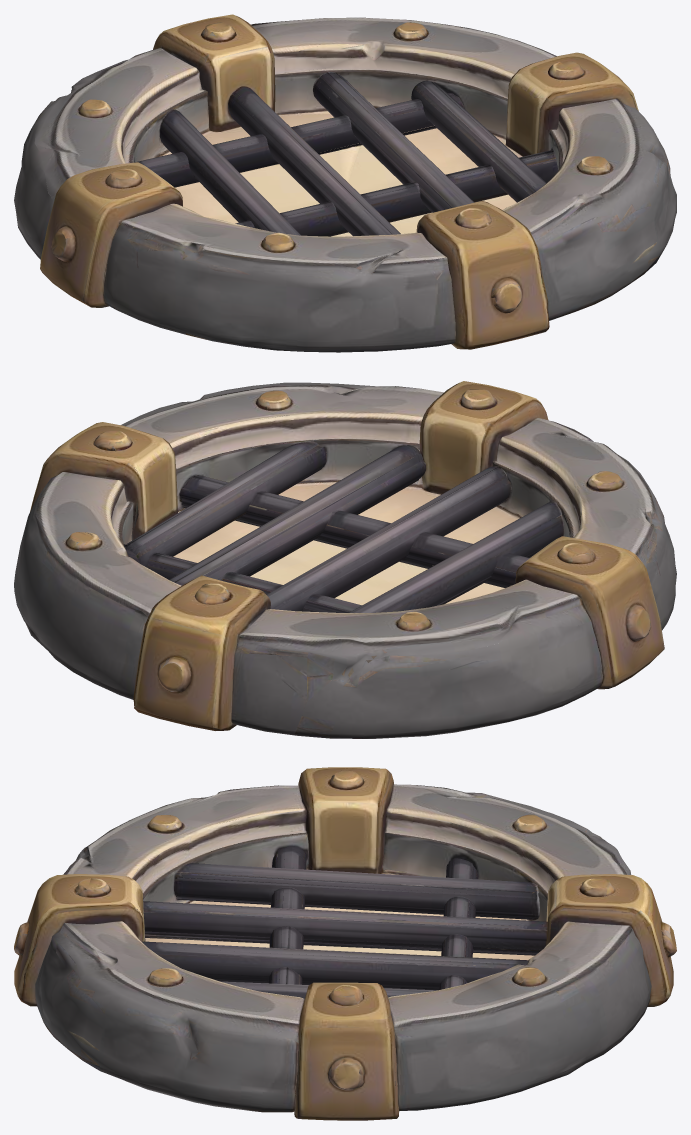
File: updraft_vent.glb
3 renders of one model, top to bottom at view 1: azimuth 30°, elevation 25°; view 2: azimuth 150°, elevation 25°; view 3: azimuth 270°, elevation 25°, orthographic. The views are drawn at different scales.
Parts seen in each view (by area): view 1: Rim, Grate, Glow; view 2: Rim, Grate, Glow; view 3: Rim, Grate, Glow.
Boxes of the visible parts, bbox=[...] form: Rim: bbox=[14, 14, 676, 352]; Grate: bbox=[133, 72, 557, 236]; Glow: bbox=[175, 114, 522, 236]; Rim: bbox=[14, 381, 676, 738]; Grate: bbox=[123, 439, 570, 612]; Glow: bbox=[173, 485, 516, 605]; Rim: bbox=[14, 767, 676, 1120]; Grate: bbox=[142, 846, 547, 1025]; Glow: bbox=[145, 901, 534, 960].
Bounding box in the file's own units: 3.2 × 0.5537 × 3.2.
2 materials, 2 textured.
